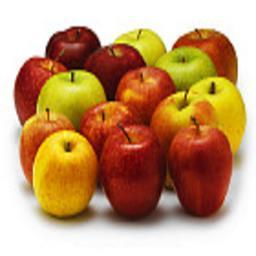apple: (97, 124, 165, 216), (166, 122, 232, 216), (32, 127, 98, 219), (183, 76, 245, 155), (30, 65, 101, 129), (19, 111, 76, 186), (12, 55, 72, 123), (116, 65, 176, 126), (77, 101, 143, 156), (173, 29, 238, 82), (86, 42, 146, 97), (155, 45, 217, 89), (150, 91, 219, 130), (45, 26, 97, 67)
